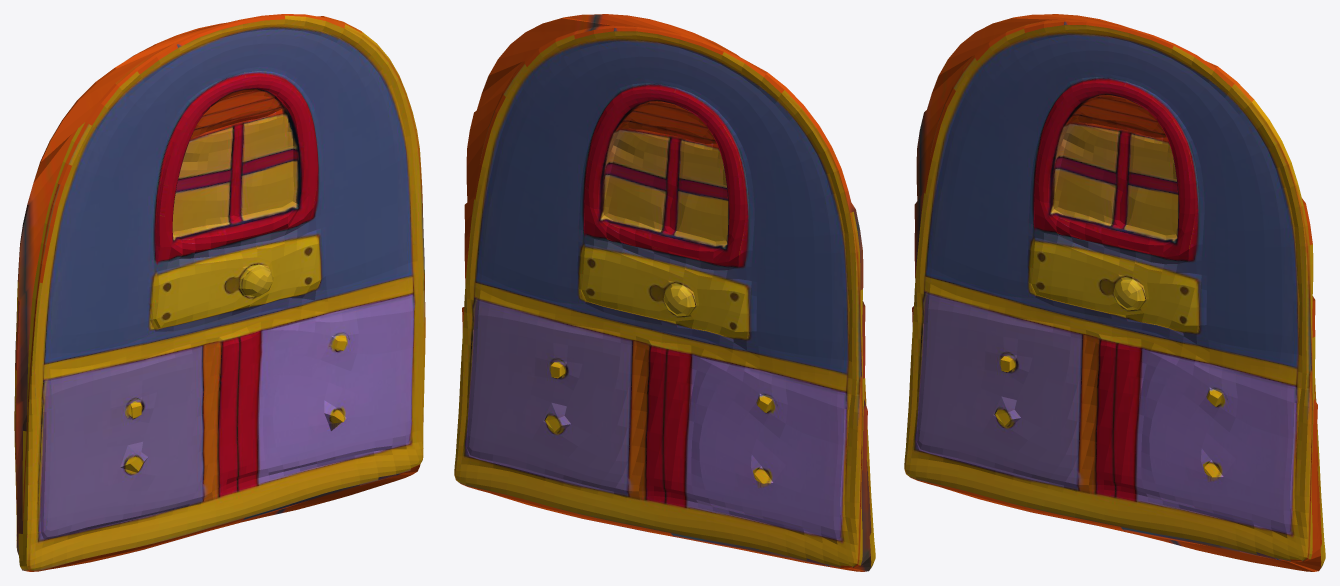
Rendered from puerta.obj.
The picture shows the model from 3 angles, left to right: view 1: azimuth 30°, elevation 25°; view 2: azimuth 150°, elevation 25°; view 3: azimuth 330°, elevation 25°; orthographic projection.
Parts seen in each view (by area): view 1: puerta:Mesh2; view 2: puerta:Mesh2; view 3: puerta:Mesh2.
Boxes of the visible parts, x1,y1,x2,y2 form: puerta:Mesh2: [14, 14, 425, 571]; puerta:Mesh2: [454, 14, 875, 571]; puerta:Mesh2: [904, 14, 1325, 571].
Bounding box in the file's own units: 4.64 × 5.55 × 0.6562.
1 material, 1 textured.
